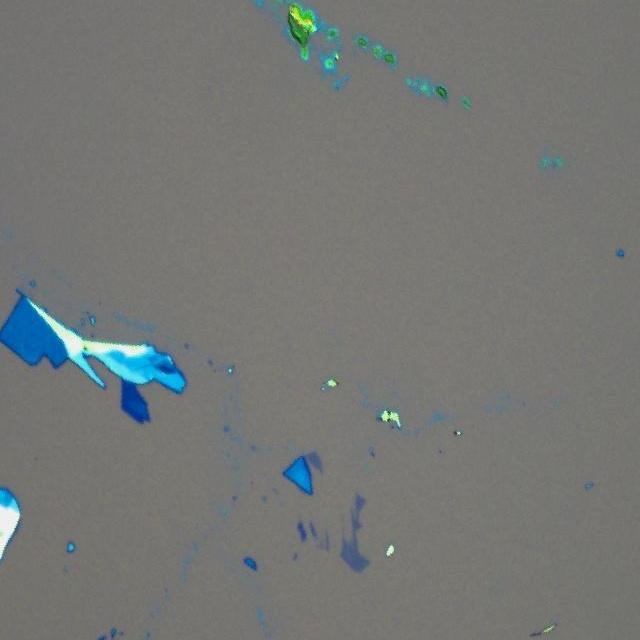monolayer-eWW4: (340, 488, 372, 572), (306, 450, 324, 473)
